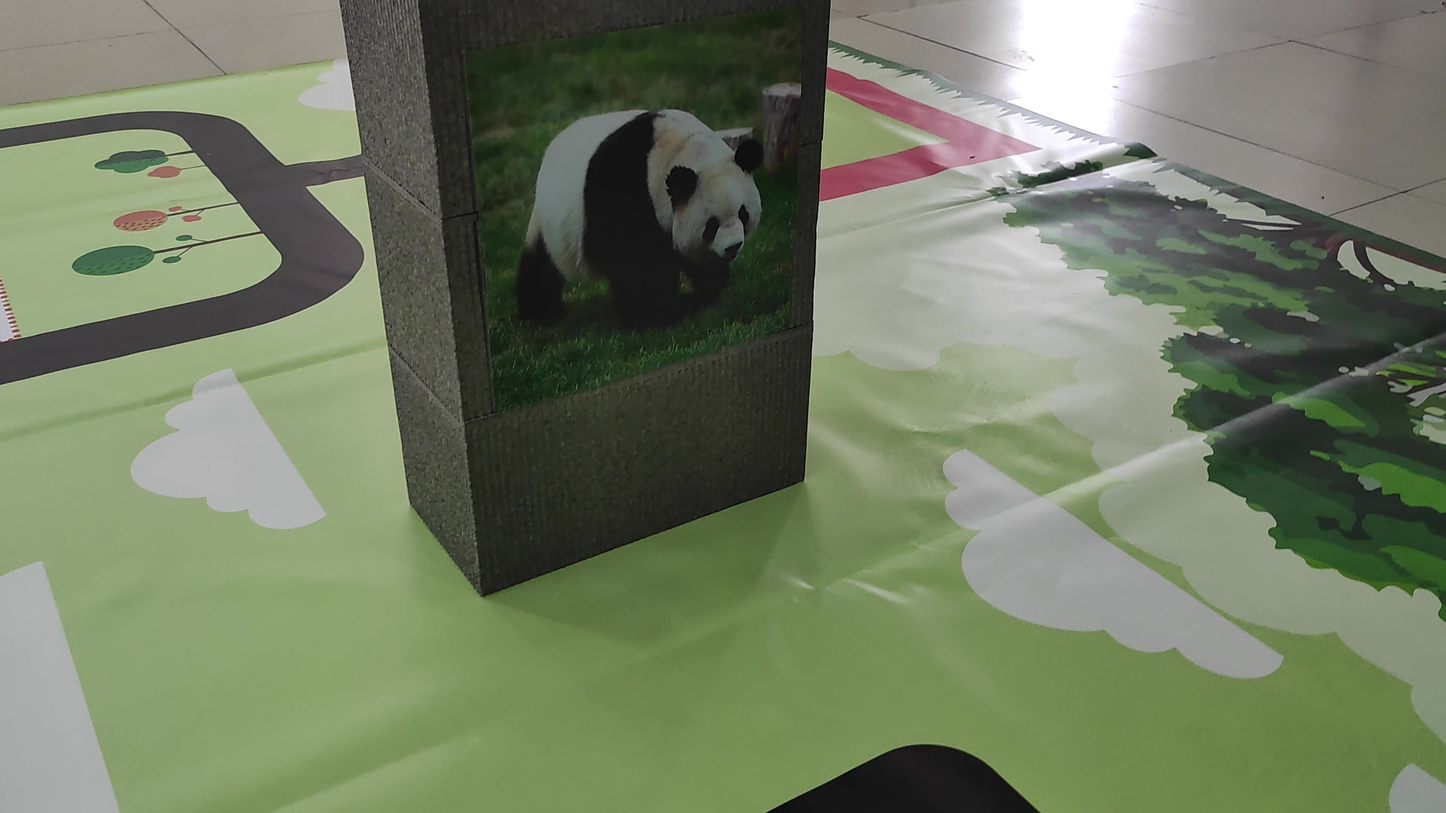panda: (482, 72, 793, 317)
